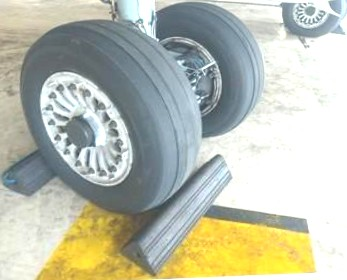chock: (118, 152, 234, 279), (0, 138, 86, 197), (331, 22, 347, 37)
wheel: (1, 22, 197, 215), (143, 1, 263, 139), (282, 0, 347, 37)
